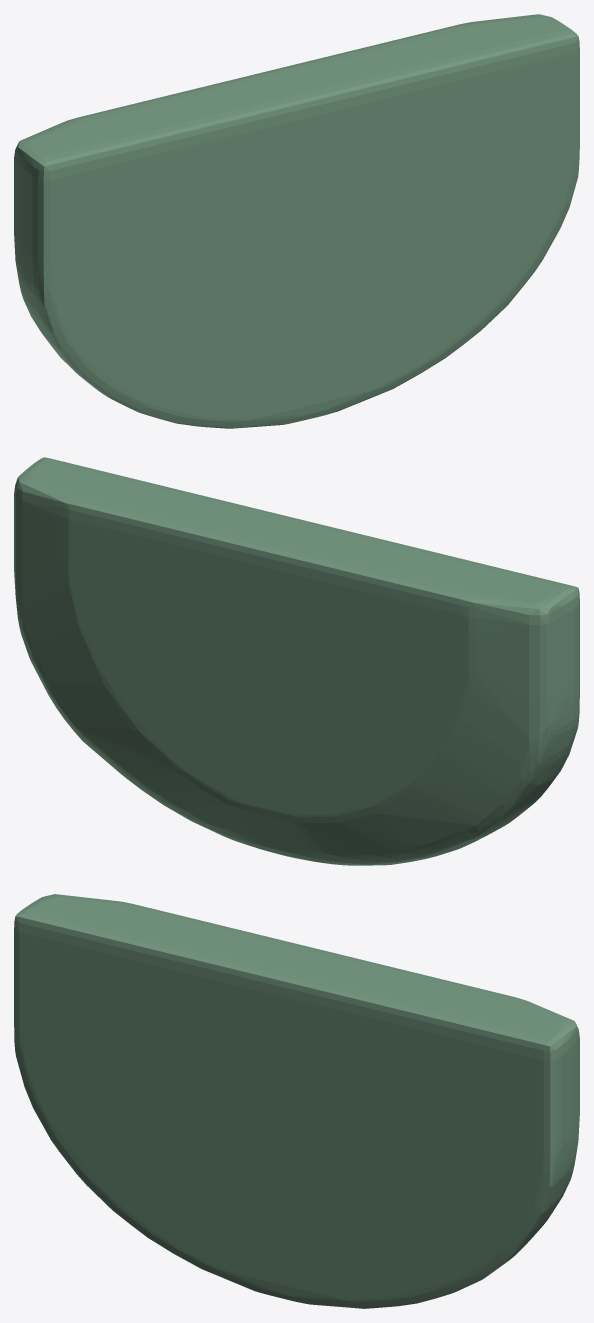
Rendered from pelvis_part_0.obj.
3 renders of one model, top to bottom at view 1: azimuth 30°, elevation 25°; view 2: azimuth 150°, elevation 25°; view 3: azimuth 330°, elevation 25°, orthographic.
Bounding box in the file's own units: 0.1401 × 0.0791 × 0.0196.
